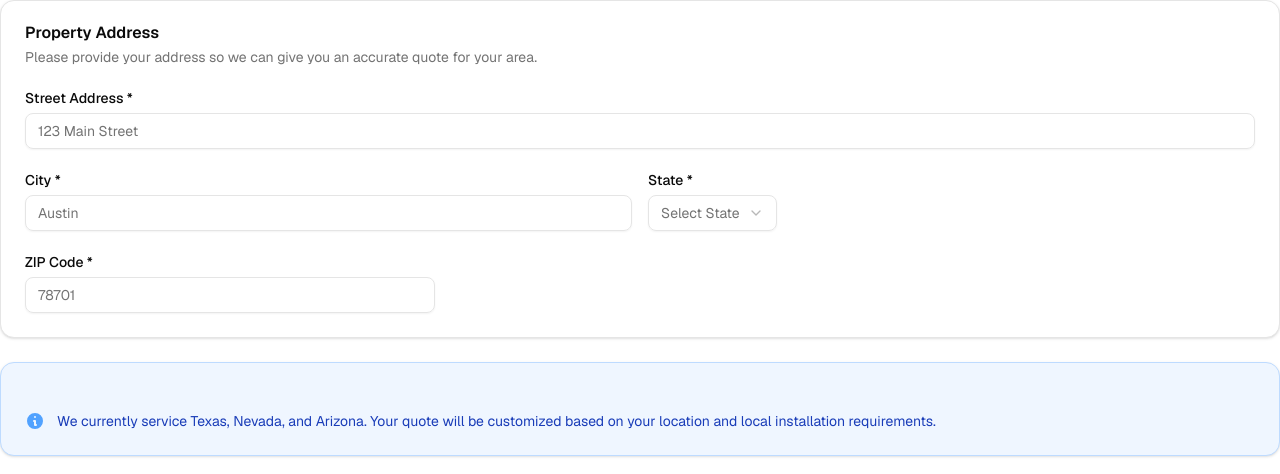
Test: AddressStep › shows state options in select dropdown
The width and height of the screenshot is (1280, 474).
Click the dropdown at (712, 213), box [648, 195, 777, 231]
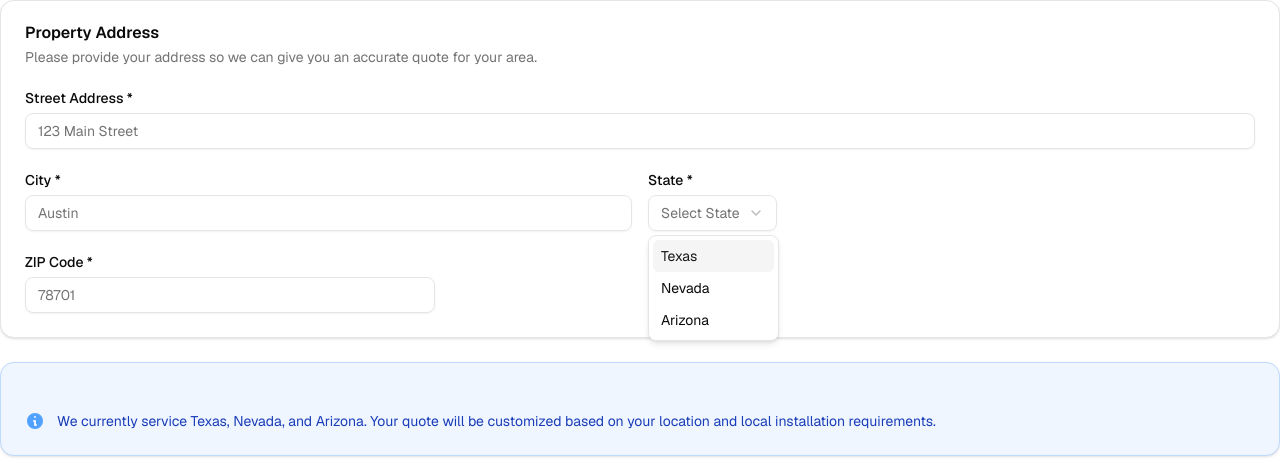
Expected: the text "Texas" is shown, [661, 246, 697, 266]
Expected: the text "Nevada" is shown, [661, 278, 710, 298]
Expected: the text "Arizona" is shown, [661, 310, 709, 330]
